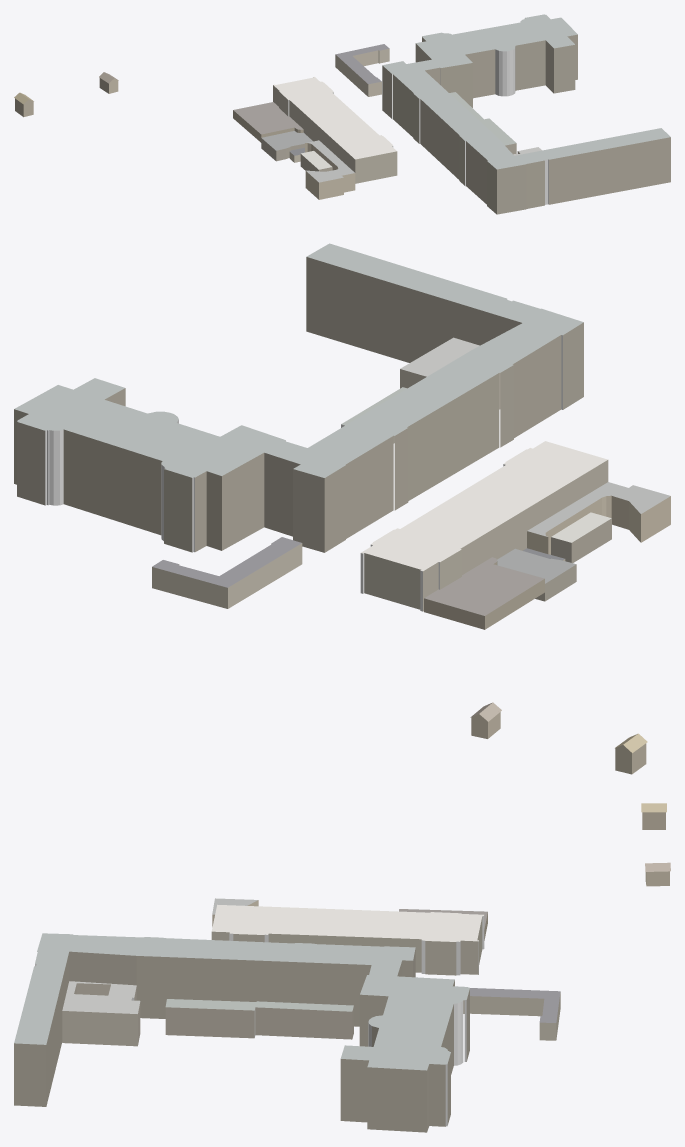
The picture shows the model from 3 angles, top to bottom: view 1: azimuth 30°, elevation 25°; view 2: azimuth 150°, elevation 25°; view 3: azimuth 270°, elevation 25°; orthographic projection. The views are drawn at different scales.
Parts seen in each view (by area): view 1: tuile; view 2: tuile; view 3: tuile.
Boxes of the visible parts, box(x1,y1,x2,y2) form: tuile: box(14, 14, 670, 214); tuile: box(14, 243, 670, 774); tuile: box(14, 803, 670, 1132).
Bounding box in the file's own units: 262 × 26.27 × 235.
